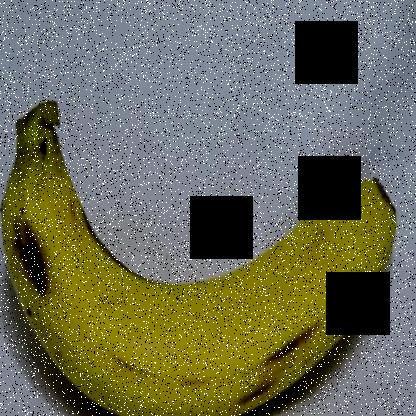freshripe: (1, 89, 406, 415)
